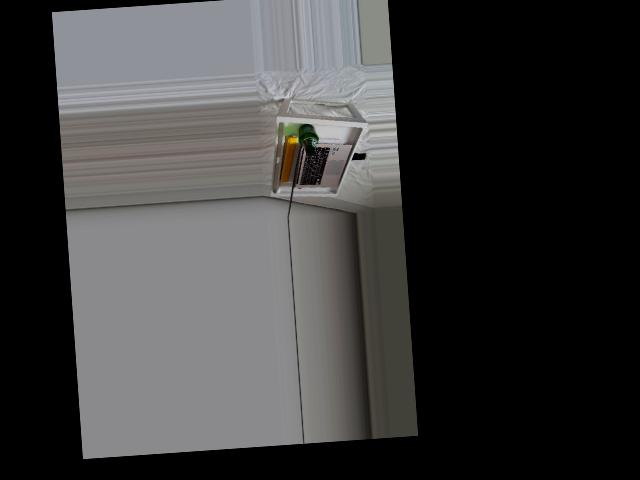beer: (297, 123, 319, 155)
